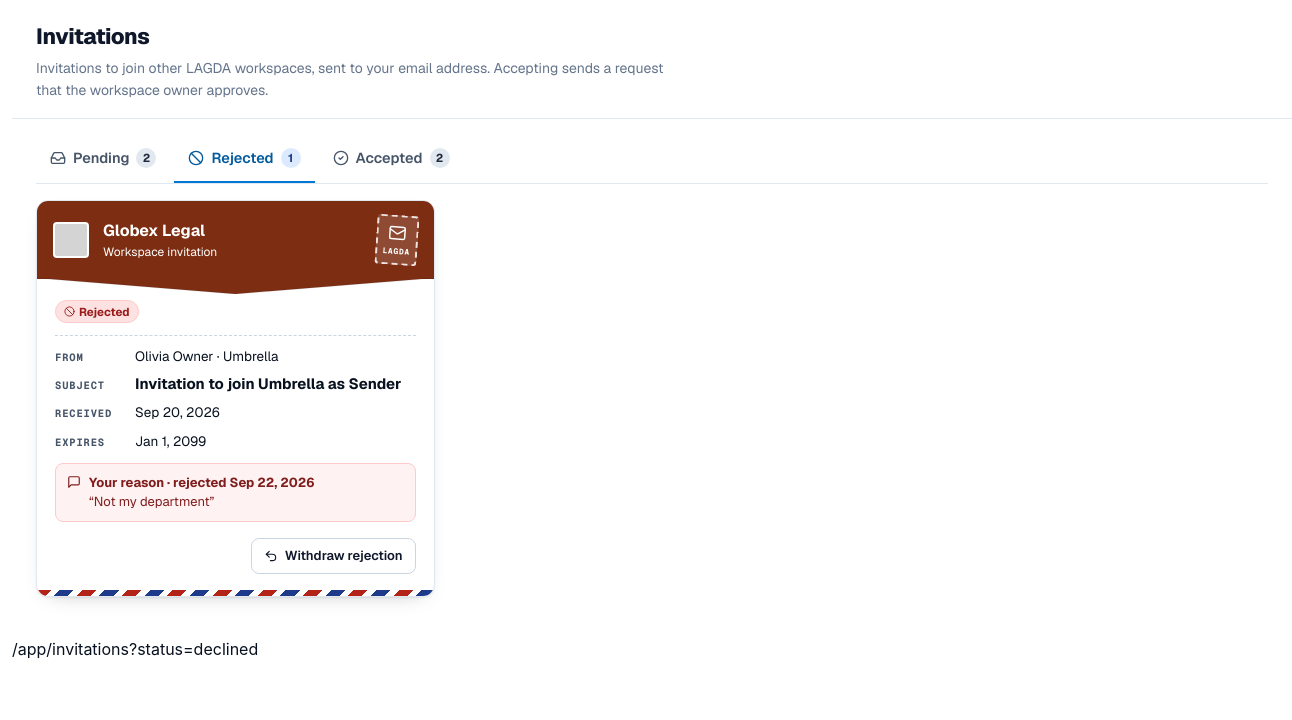
Test: Invitations page › shows the reason on a rejected invitation and withdraws the rejection back to Pending
Expected: the element with test id "invitation-reason" shows "“Not my department”", [55,463,416,522]
Expected: the text "Rejected" is shown, [55,300,139,323]
Click the button with aria-label "Withdraw rejection: Invitation to join Umbrella as Sender" at (333, 556), box [251,538,416,574]
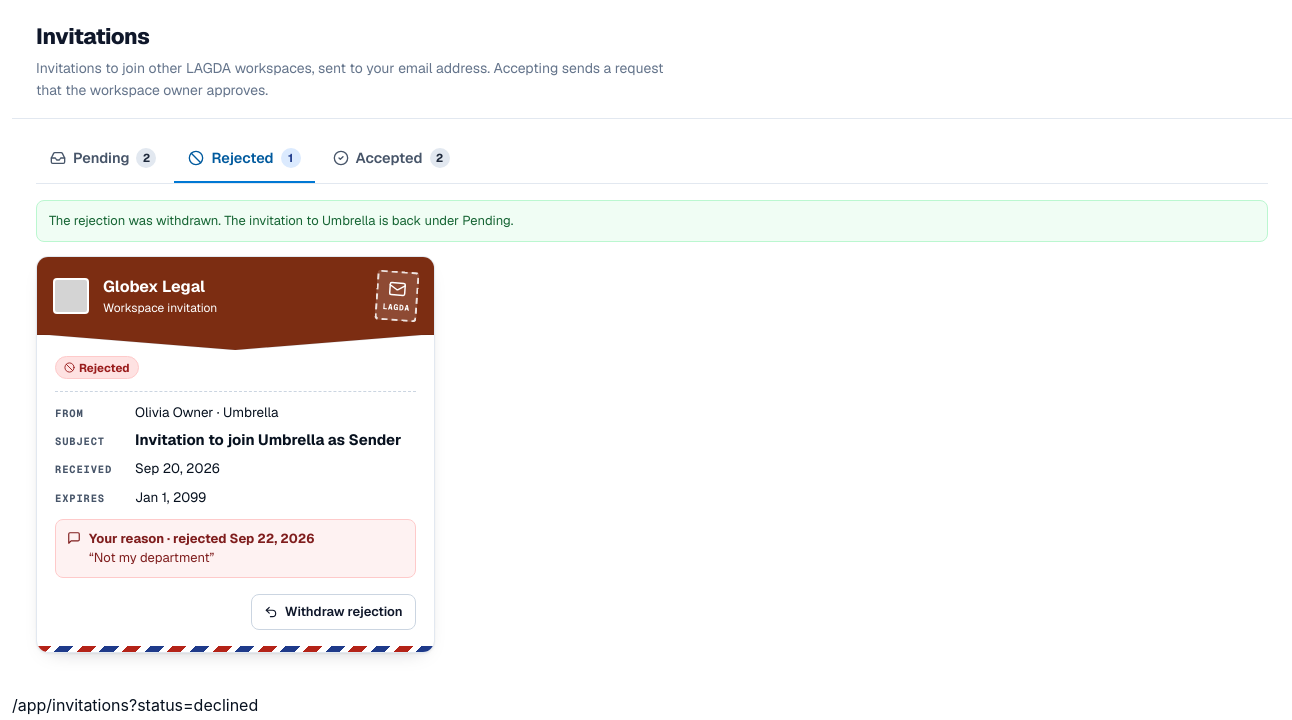
Now the text "The rejection was withdrawn" is shown, box [49,212,513,228]
